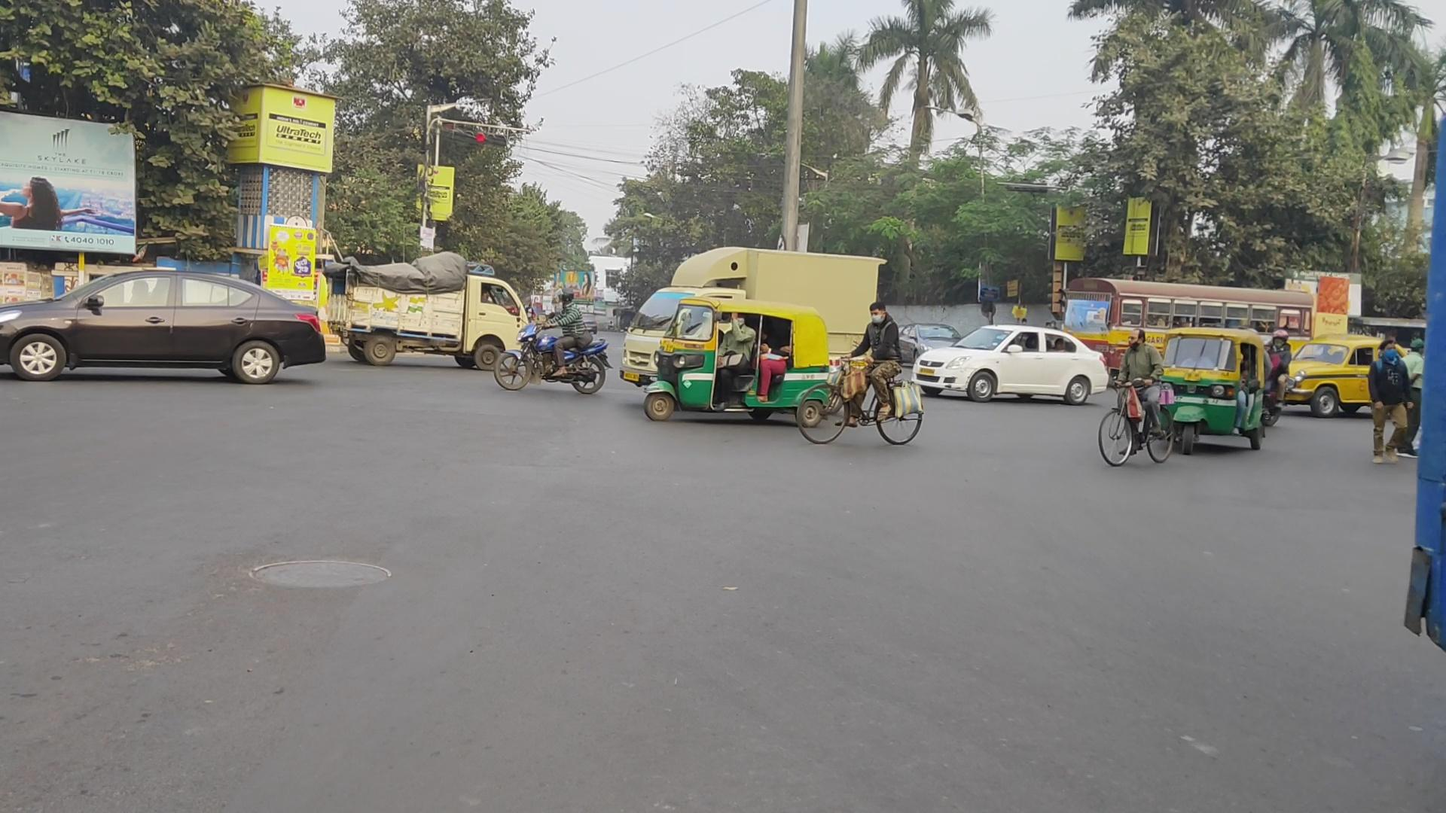Auto: (643, 297, 831, 428), (1160, 326, 1264, 457)
Bus: (1062, 276, 1316, 397)
bike: (795, 303, 926, 446), (494, 288, 612, 396), (1099, 328, 1176, 467)
car: (2, 269, 327, 385), (912, 324, 1110, 406), (1280, 334, 1420, 419)
van: (621, 246, 888, 415), (323, 254, 531, 371)
